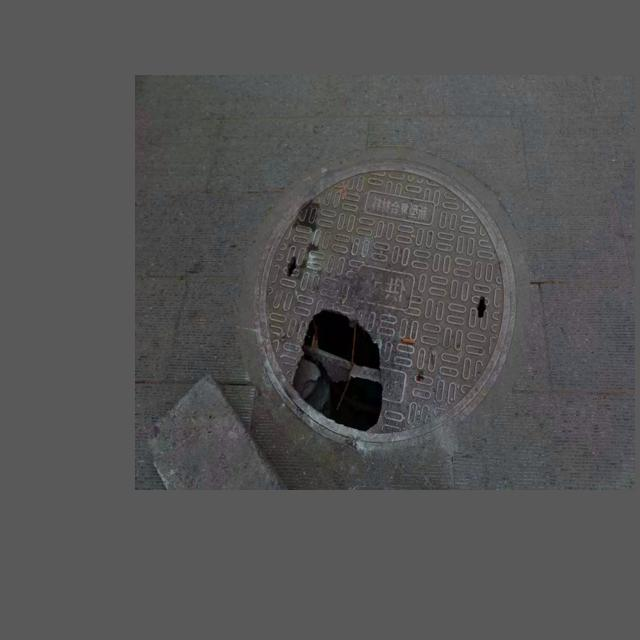broke: (260, 166, 518, 441)
